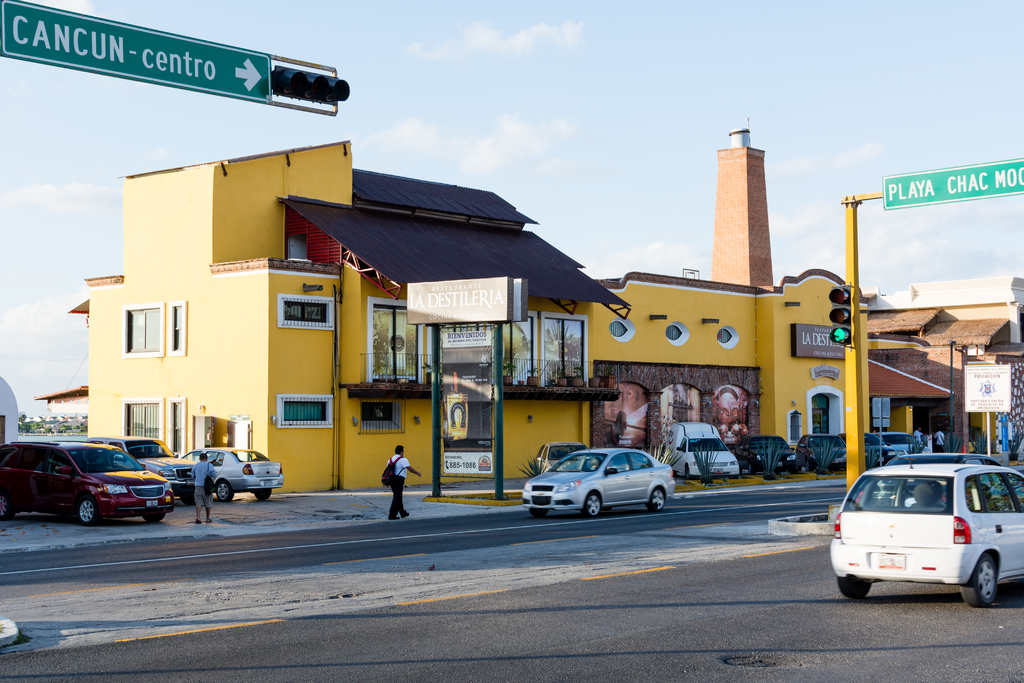Car: (824, 448, 1023, 614), (0, 427, 180, 531), (519, 444, 677, 519), (147, 444, 287, 501), (87, 435, 201, 497), (799, 427, 890, 479), (730, 430, 802, 481), (533, 441, 586, 472), (881, 430, 933, 454)
